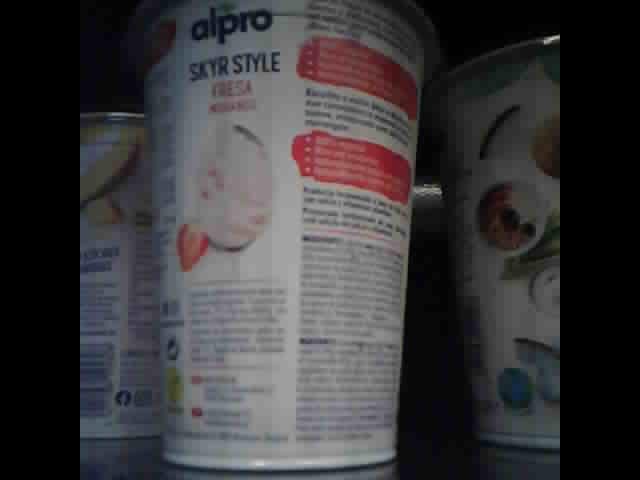alpro: (130, 1, 438, 473), (436, 34, 561, 455), (79, 104, 162, 439)
